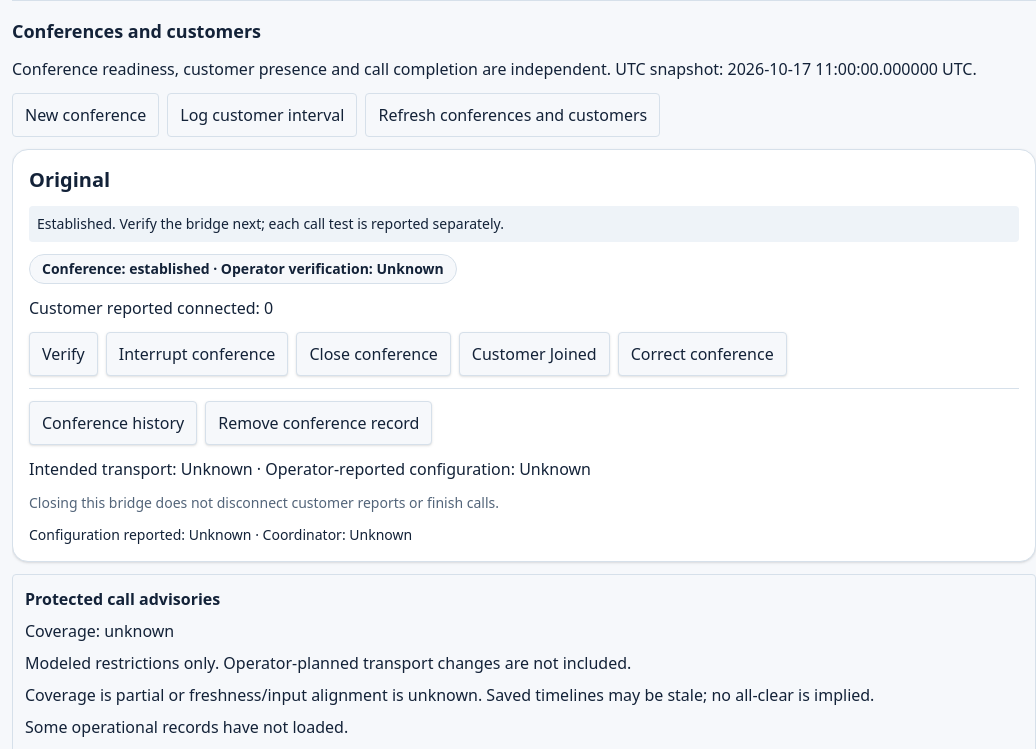
Test: releases navigation when clock capture fails before any mutation
What coordinates should you click on to do the following:
click the button "Customer Joined"
I would click on:
 (534, 354)
Its box is [459,332,610,376].
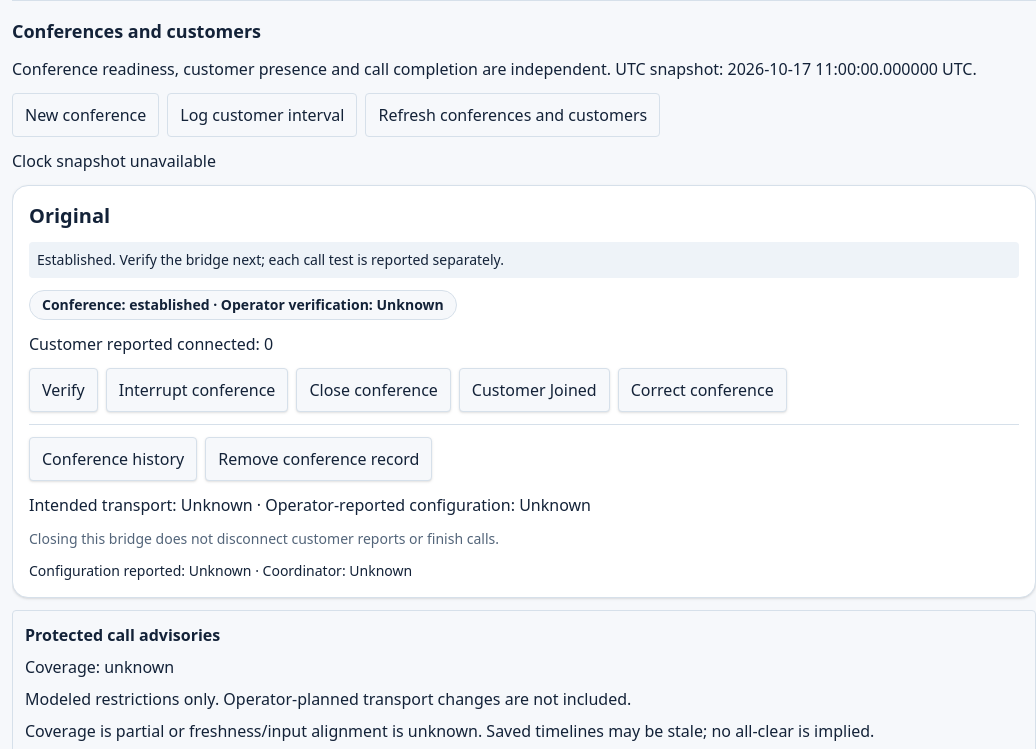
Now the text "Clock snapshot unavailable" is shown, box [12,150,216,172]
